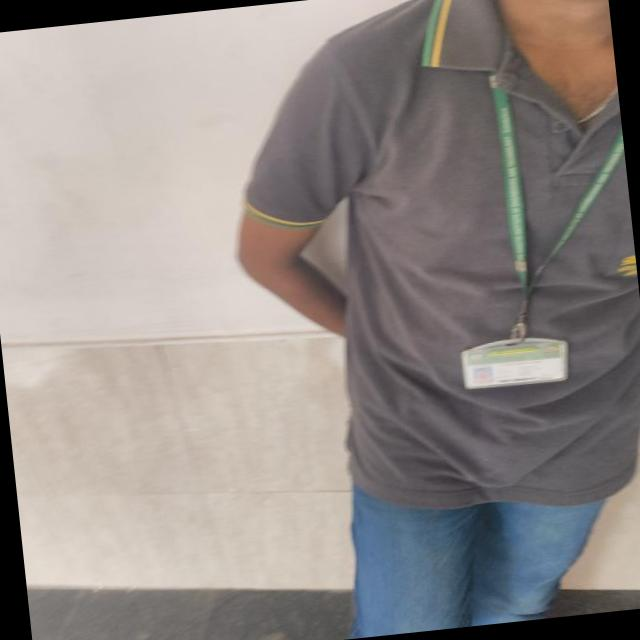id_card: (432, 66, 640, 391)
